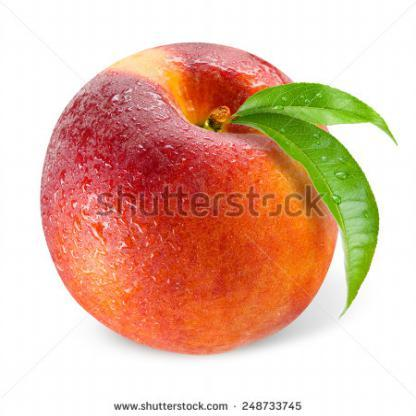Peach leaf: (235, 113, 378, 314), (238, 78, 398, 143)
